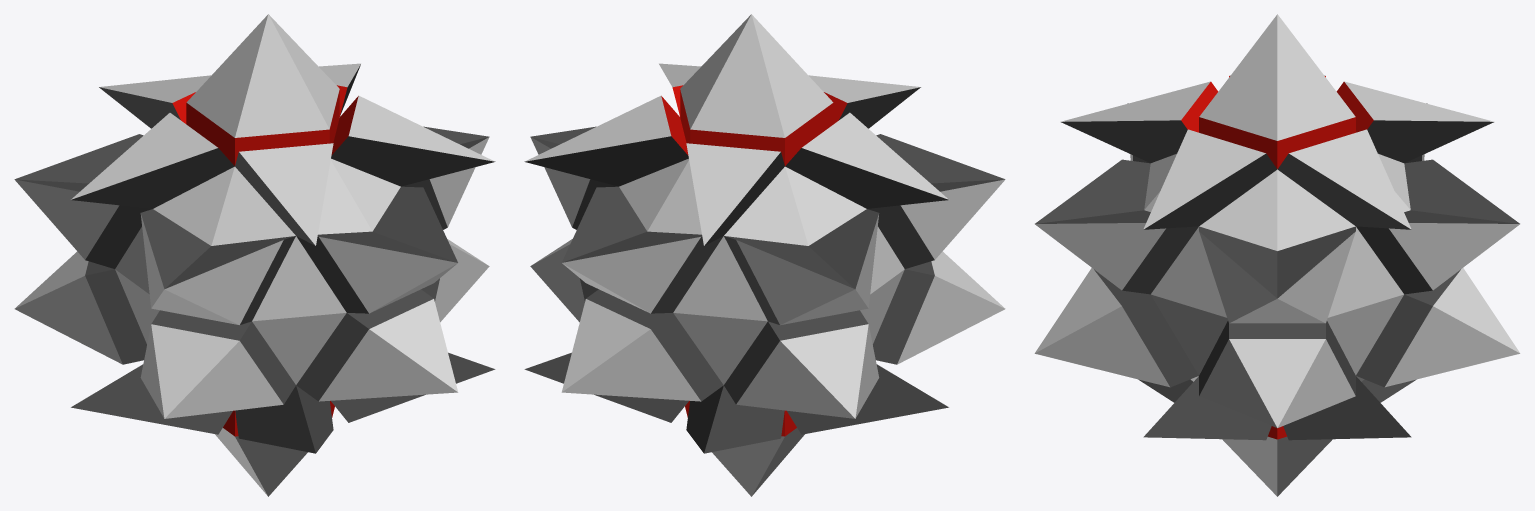
File: Mine.fbx
3 renders of one model, left to right at view 1: azimuth 30°, elevation 25°; view 2: azimuth 150°, elevation 25°; view 3: azimuth 270°, elevation 25°, orthographic.
Parts seen in each view (by area): view 1: Mine; view 2: Mine; view 3: Mine.
Boxes of the visible parts, x1,y1,x2,y2 form: Mine: (14,14,495,496); Mine: (524,14,1005,496); Mine: (1034,14,1520,496).
Bounding box in the file's own units: 309 × 340 × 310.
